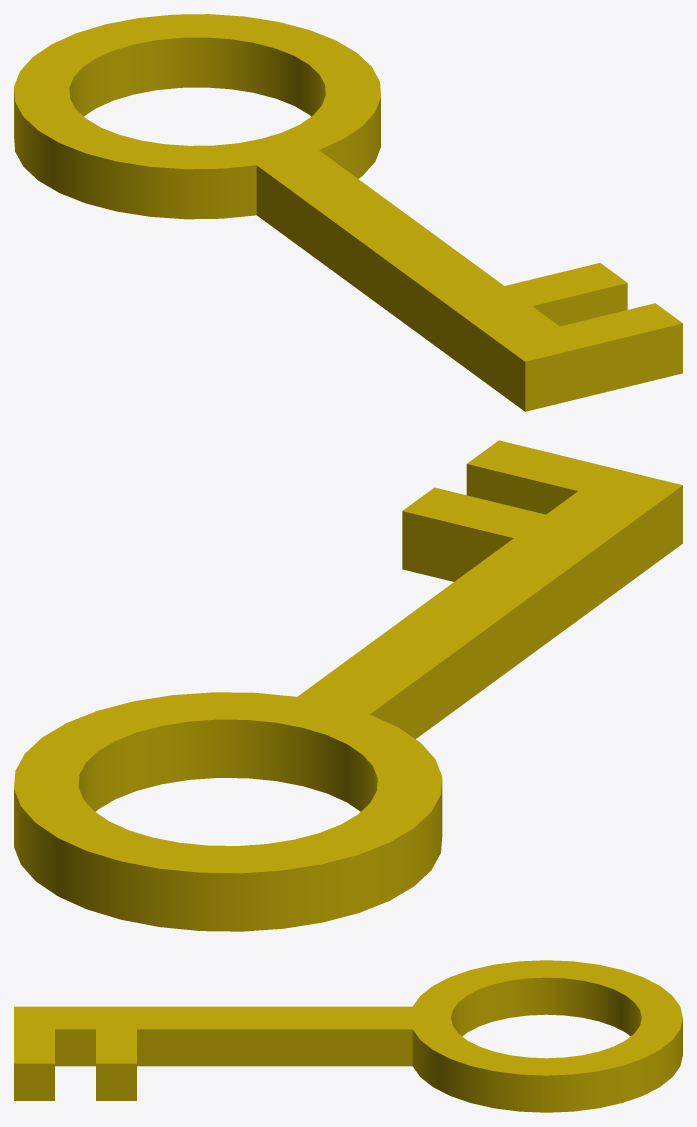
File: key.fbx
The picture shows the model from 3 angles, top to bottom: view 1: azimuth 30°, elevation 25°; view 2: azimuth 150°, elevation 25°; view 3: azimuth 270°, elevation 25°; orthographic projection. The views are drawn at different scales.
Parts seen in each view (by area): view 1: key; view 2: key; view 3: key.
Boxes of the visible parts, left/top/right/bottom form: key: left=14, top=14, right=682, bottom=411; key: left=14, top=440, right=682, bottom=931; key: left=14, top=960, right=682, bottom=1112.
Size of the model in its own units: 2 by 0.3 by 4.9.
